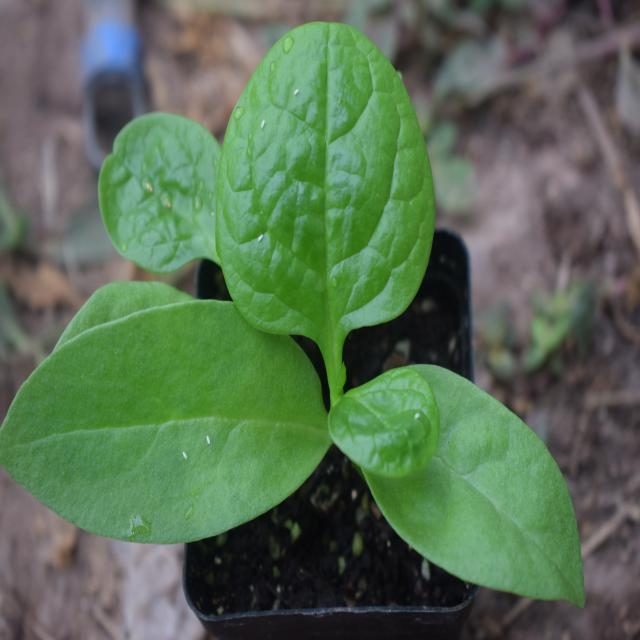Ceylon spinach: (16, 36, 566, 619)
